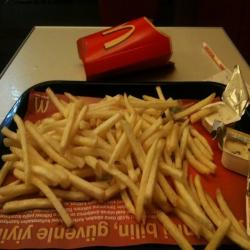fries: (5, 86, 213, 213)
